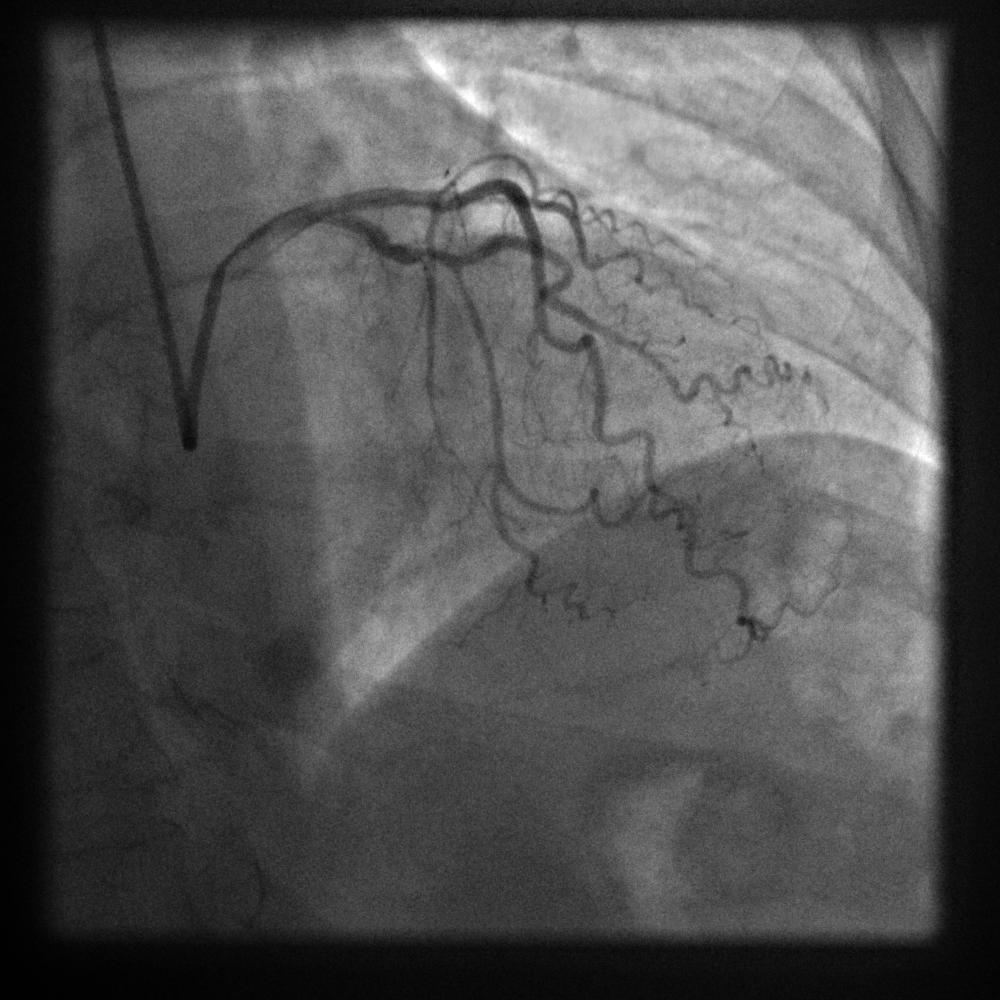Stenosis: (370, 232, 472, 272)
